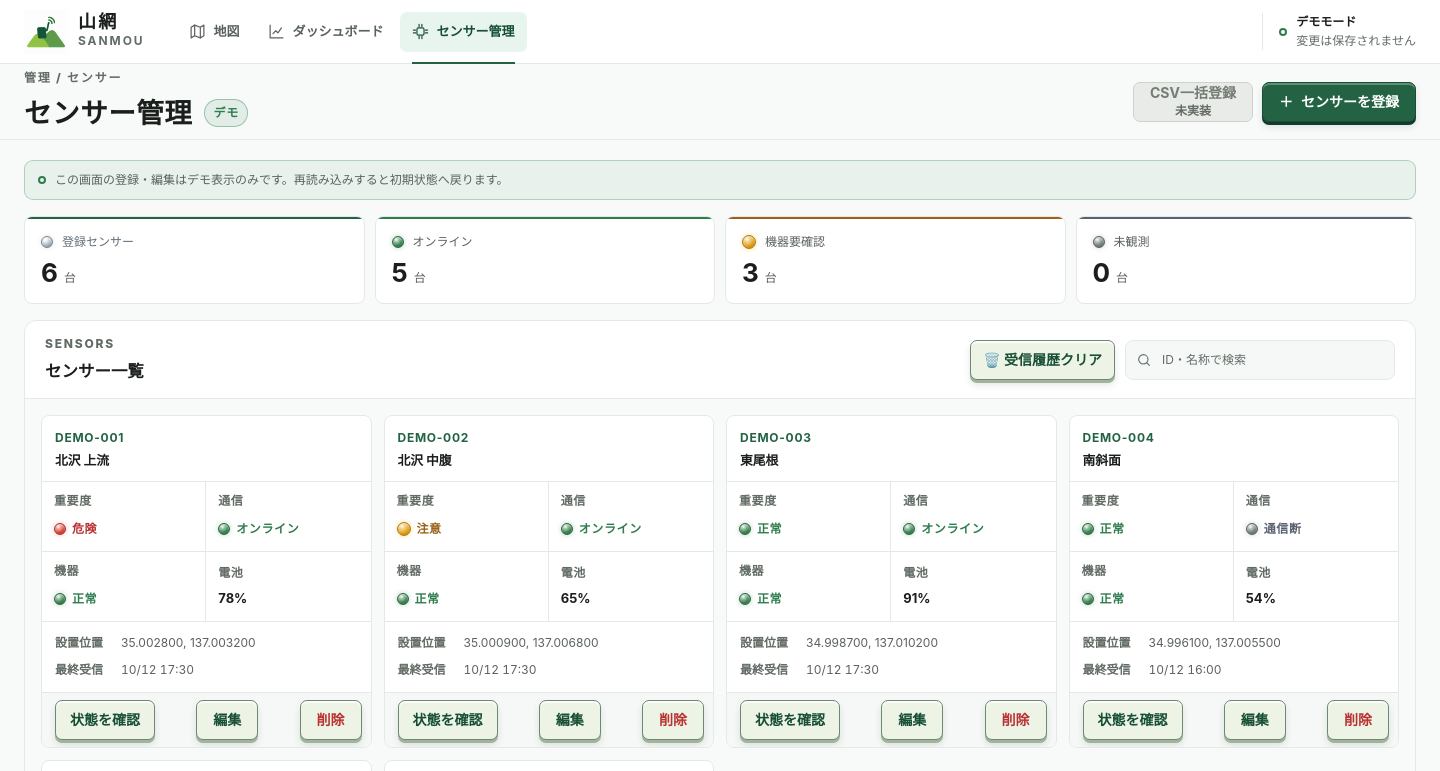
Test: SensorManagement › 登録済みセンサーの名称と座標を編集する
The width and height of the screenshot is (1440, 771).
Step 1. Click the button with aria-label "DEMO-001を編集" → click(227, 720), box [196,700,258,740]
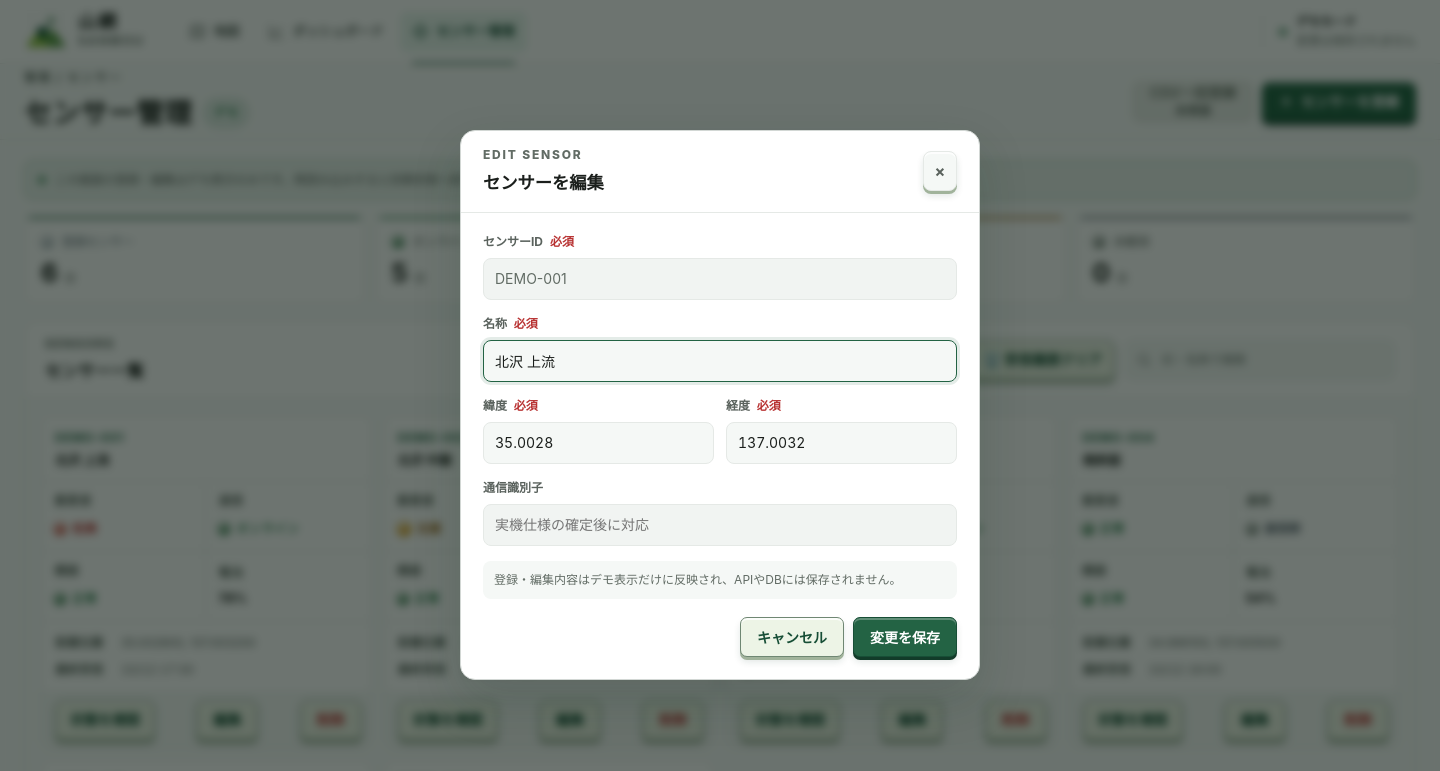
expect the field labelled "センサーID 必須" is disabled: met, box [483,258,957,300]
Step 2. Replace the text in the field labelled "名称 必須" with "北沢 最上流" → (720, 361), box [483,340,957,382]
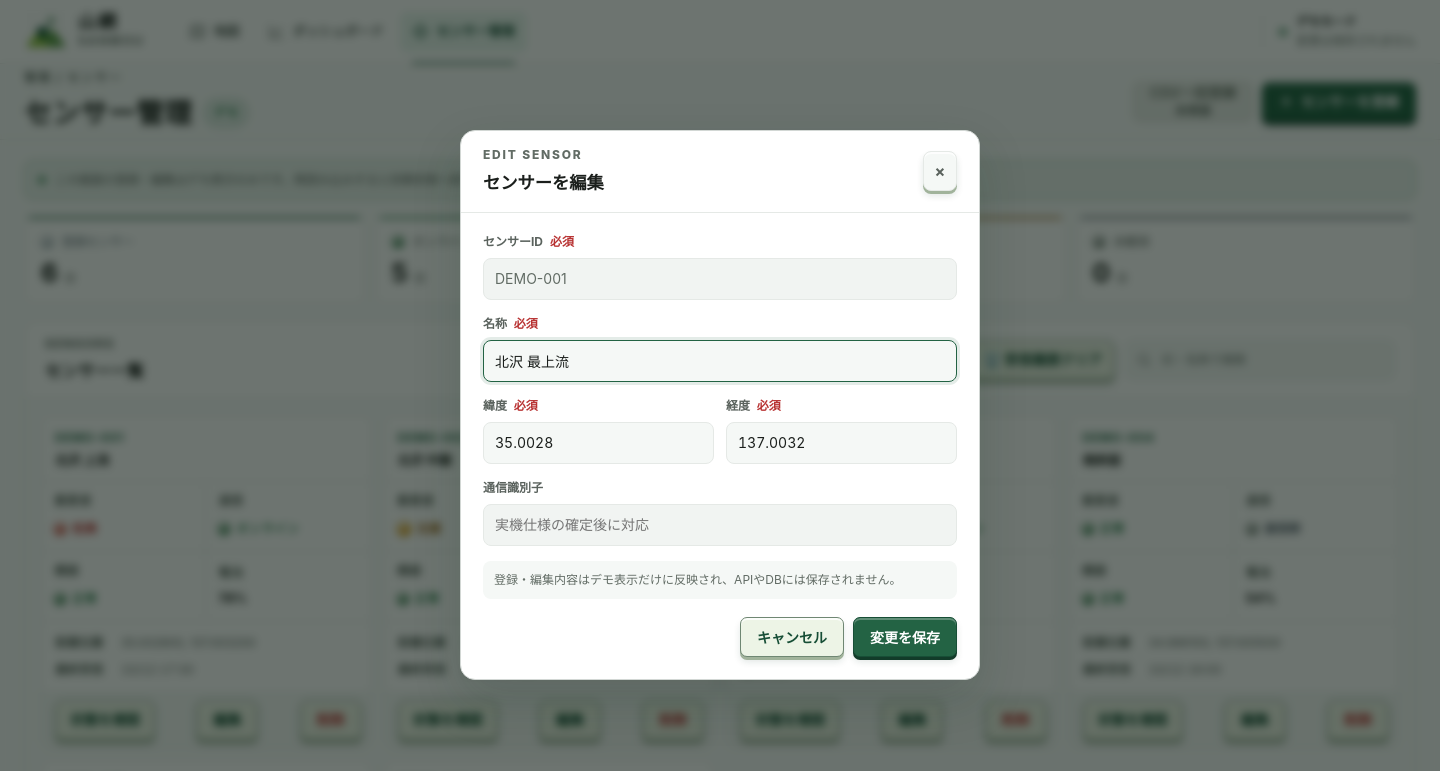
Step 3. Click the button "変更を保存" → click(905, 637), box [853,617,957,657]
(page scrolled)
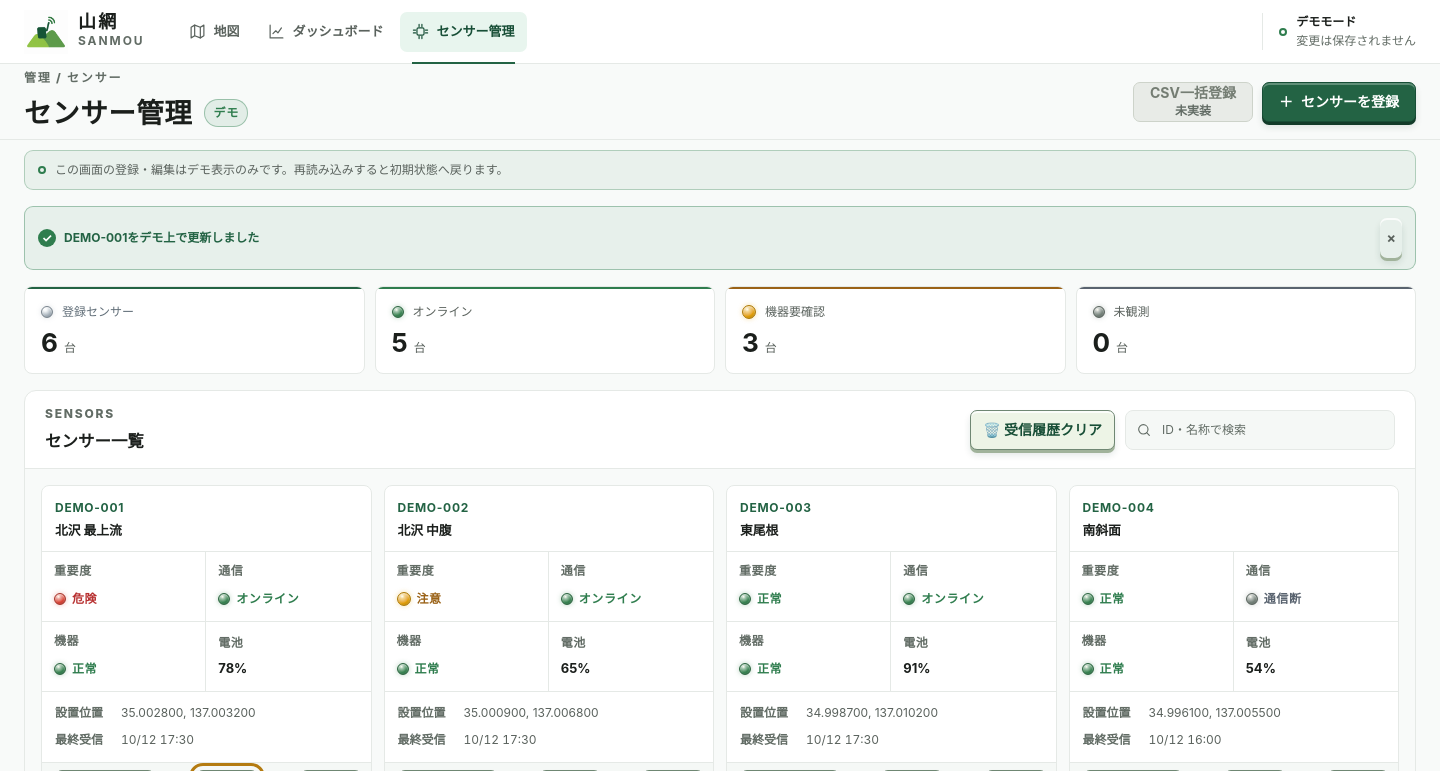
expect the message shows "DEMO-001をデモ上で更新しました": met, box [64,230,259,245]
expect the text "北沢 最上流" is shown: met, box [55,521,124,540]
